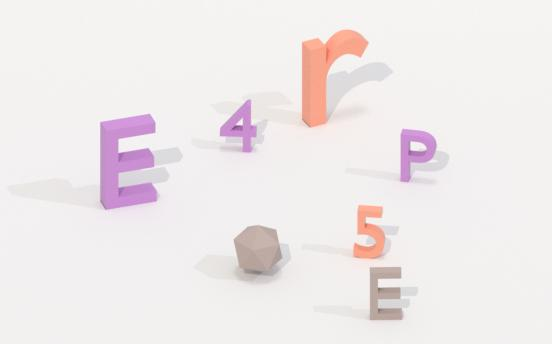4: (216, 98, 262, 153)
5: (347, 202, 392, 260)
E-hoa: (93, 113, 164, 212), (364, 265, 408, 323)
R: (295, 31, 385, 130)
dagiac: (231, 224, 285, 274)
p: (397, 126, 441, 186)
